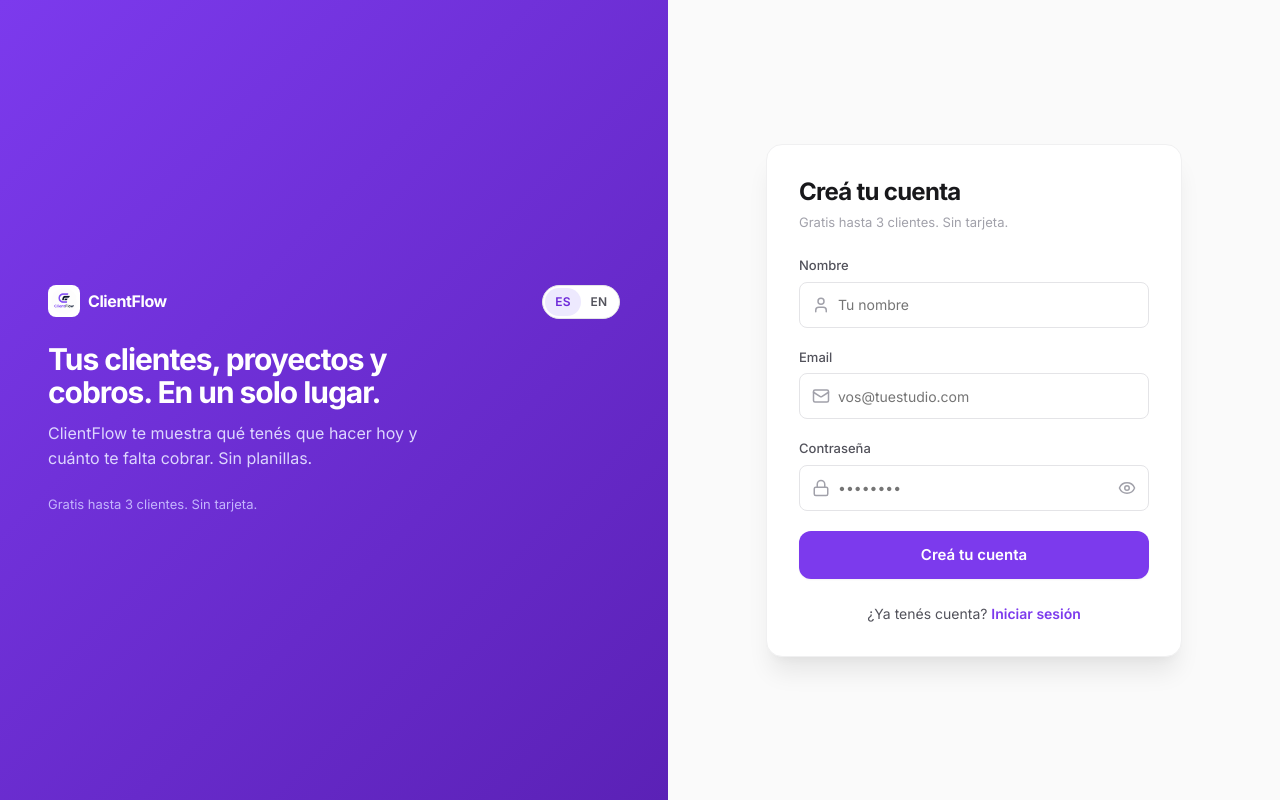
Scenario: Register › shows a server error and does not navigate when signup fails (triangulation)
The image size is (1280, 800).
Type "Tita" into the field labelled "Nombre" at (987, 304), box [838,282,1136,326]
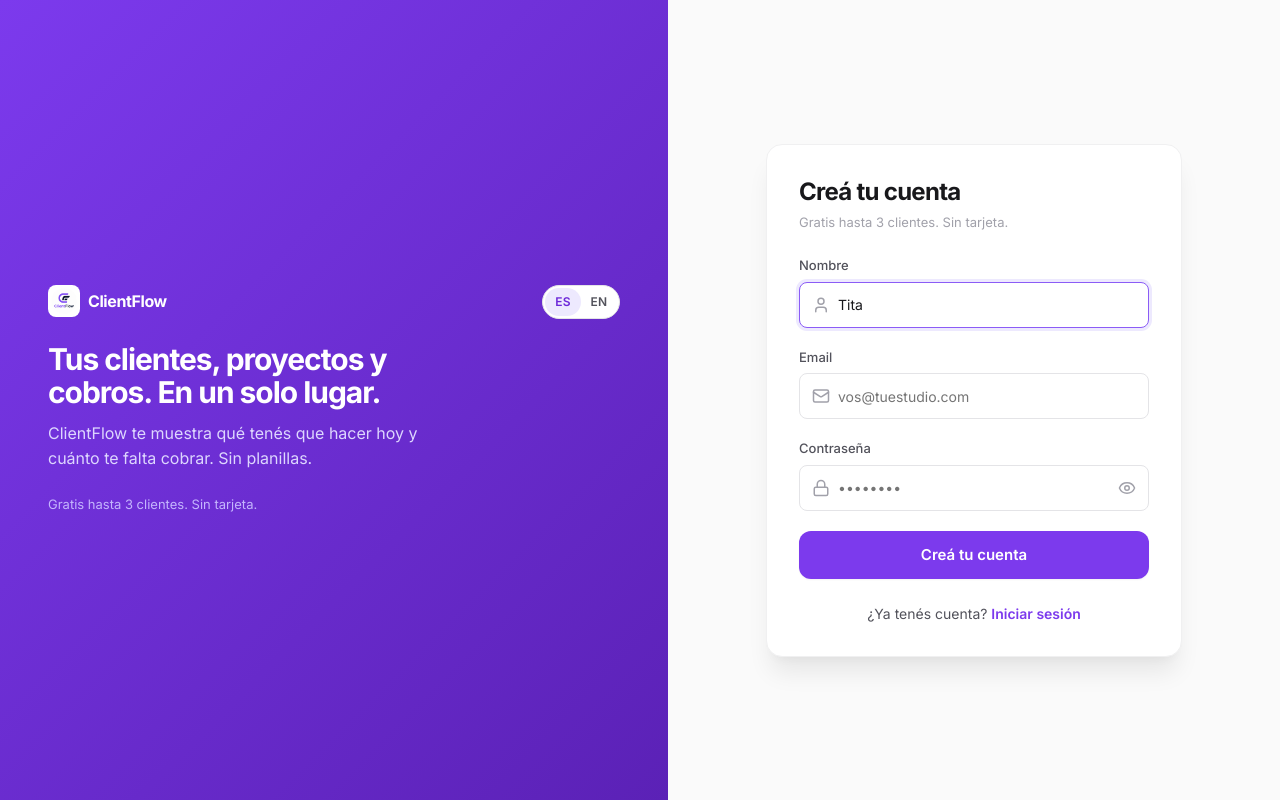
Type "tita@estudio.com" into the field labelled "Email" at (987, 396), box [838,374,1136,418]
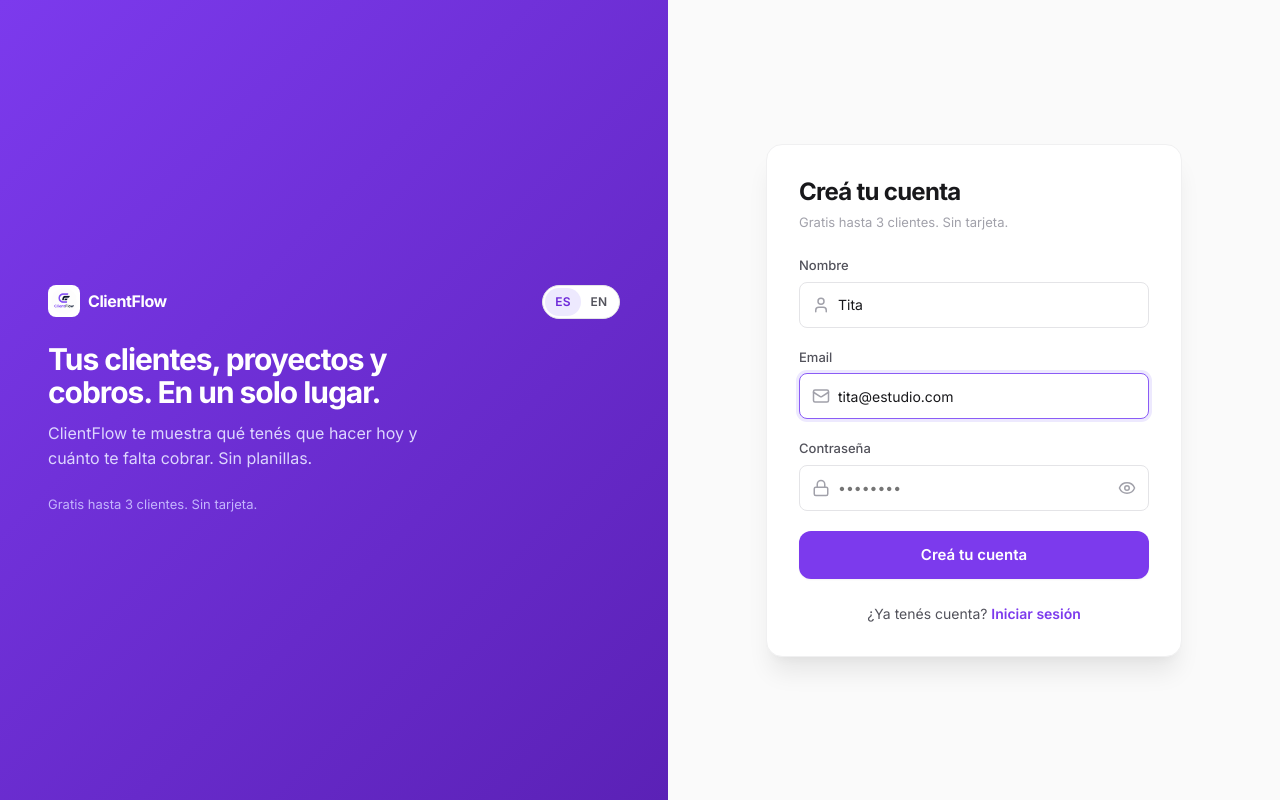
Type "supersecreta" into the password field labelled "Contraseña" at (974, 488), box [838,466,1110,510]
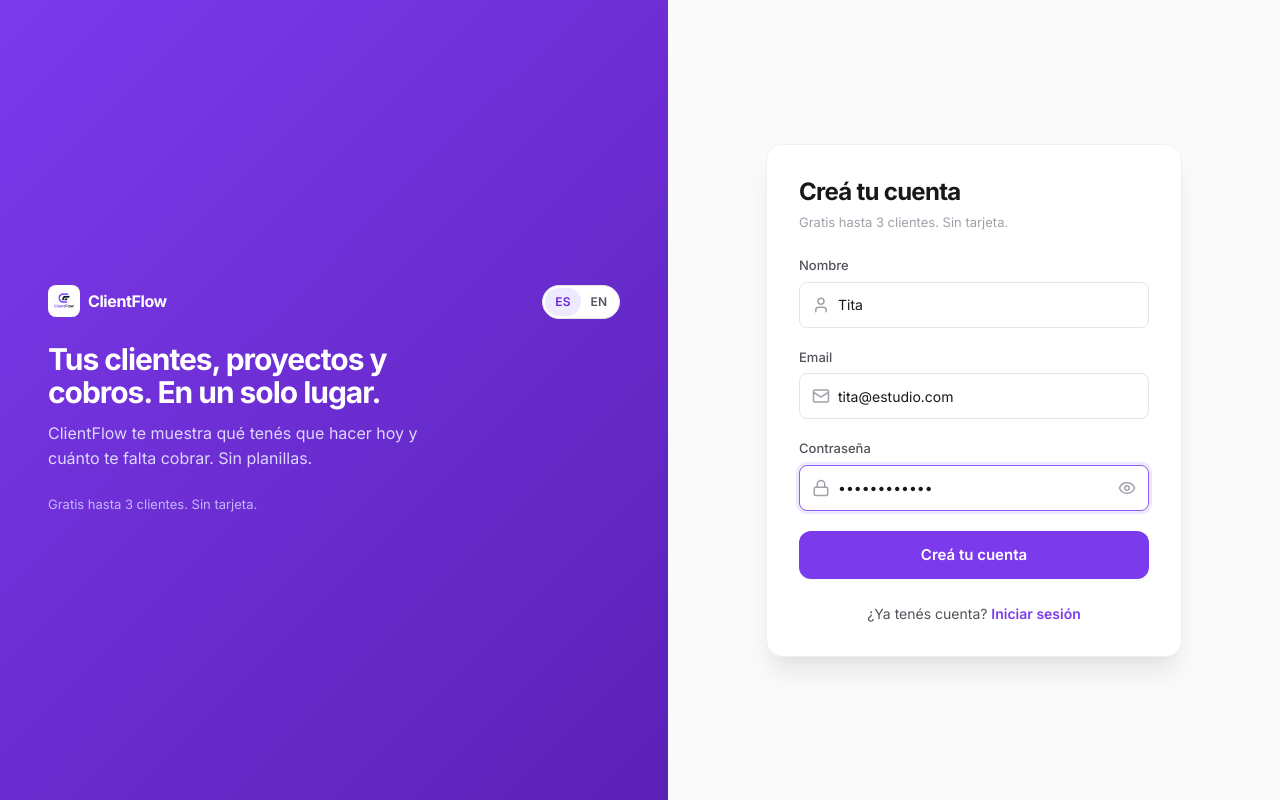
Click the button "Creá tu cuenta" at (974, 554), box [799,530,1149,578]
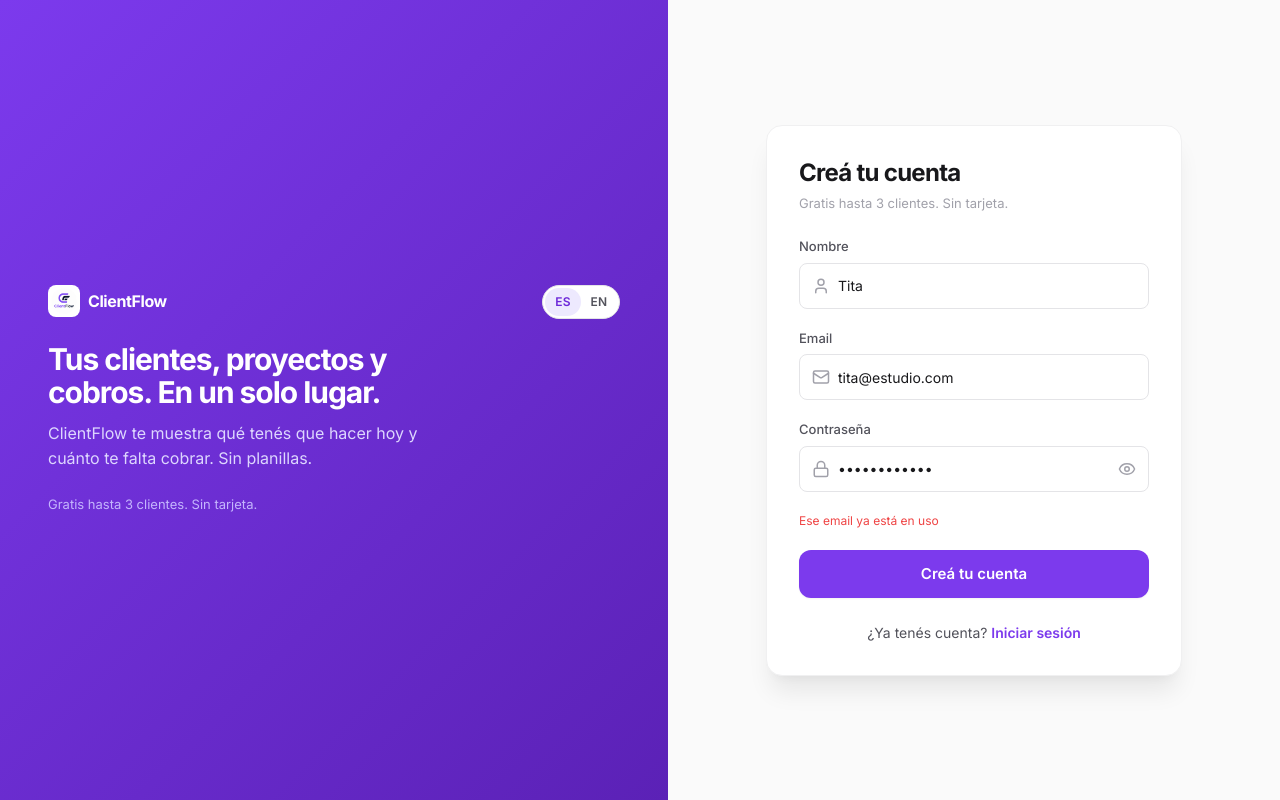
Now the text "Ese email ya está en uso" is shown, box [799,512,939,528]
